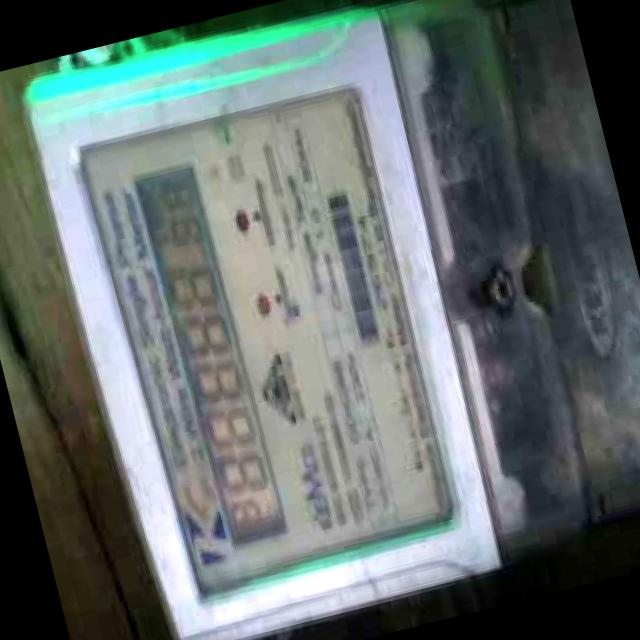LCD: (126, 152, 292, 554)
